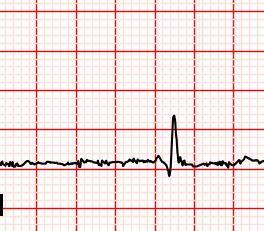Pathological Q Wave: (156, 153, 175, 181)
